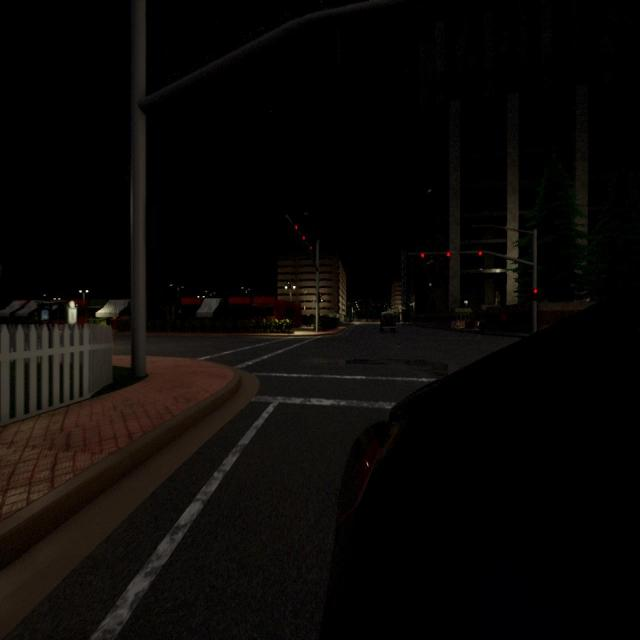Vehicle: (326, 302, 640, 640), (380, 311, 397, 333)
traffic_light: (532, 288, 538, 301), (318, 292, 321, 304), (446, 251, 451, 257), (420, 252, 424, 258), (478, 250, 482, 256), (294, 225, 298, 230), (302, 236, 305, 240), (310, 246, 312, 250)
